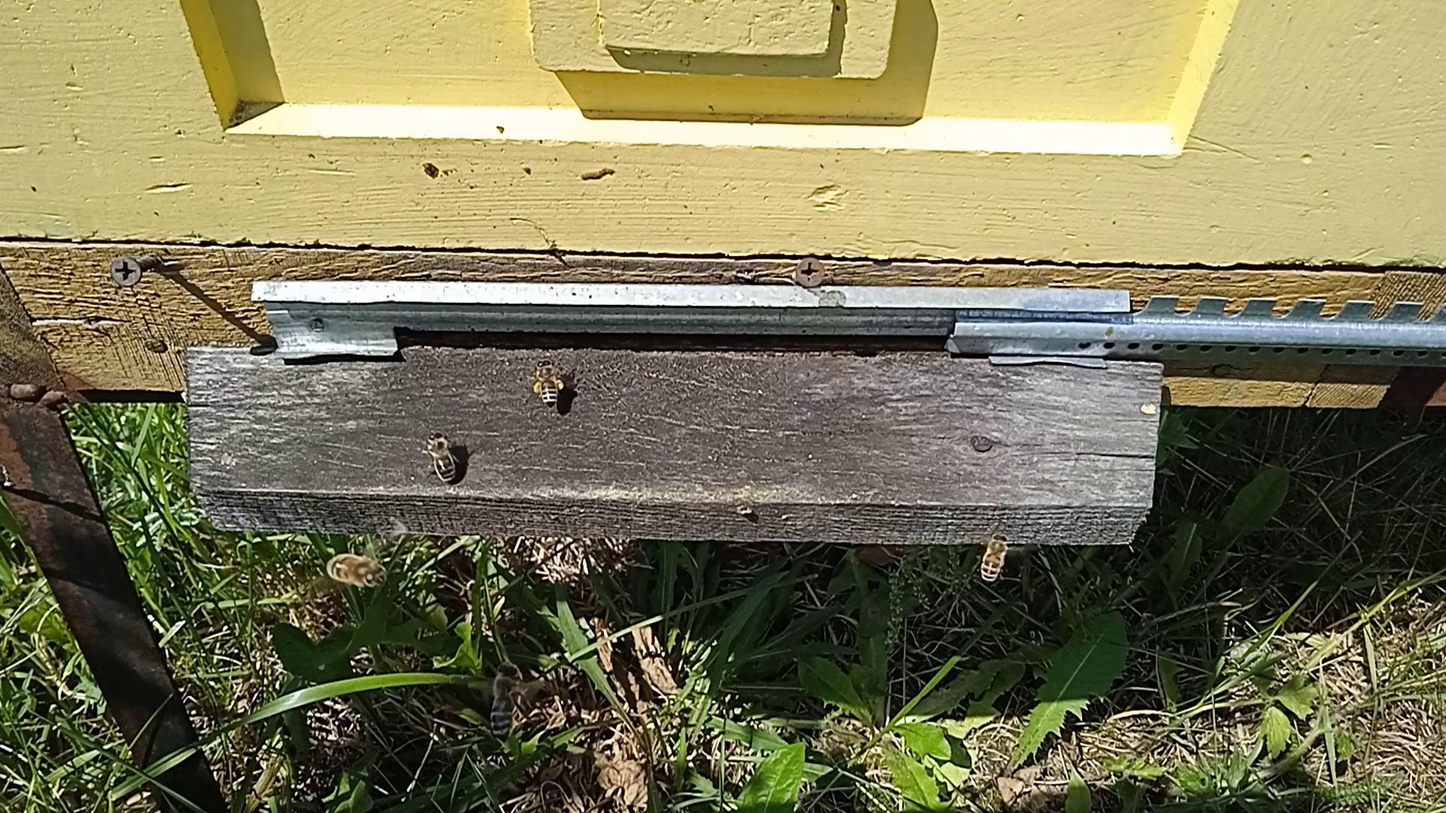worker-bee: (489, 662, 522, 736), (325, 552, 389, 589), (423, 430, 460, 484), (529, 358, 564, 409), (980, 533, 1008, 584), (822, 730, 848, 770)
